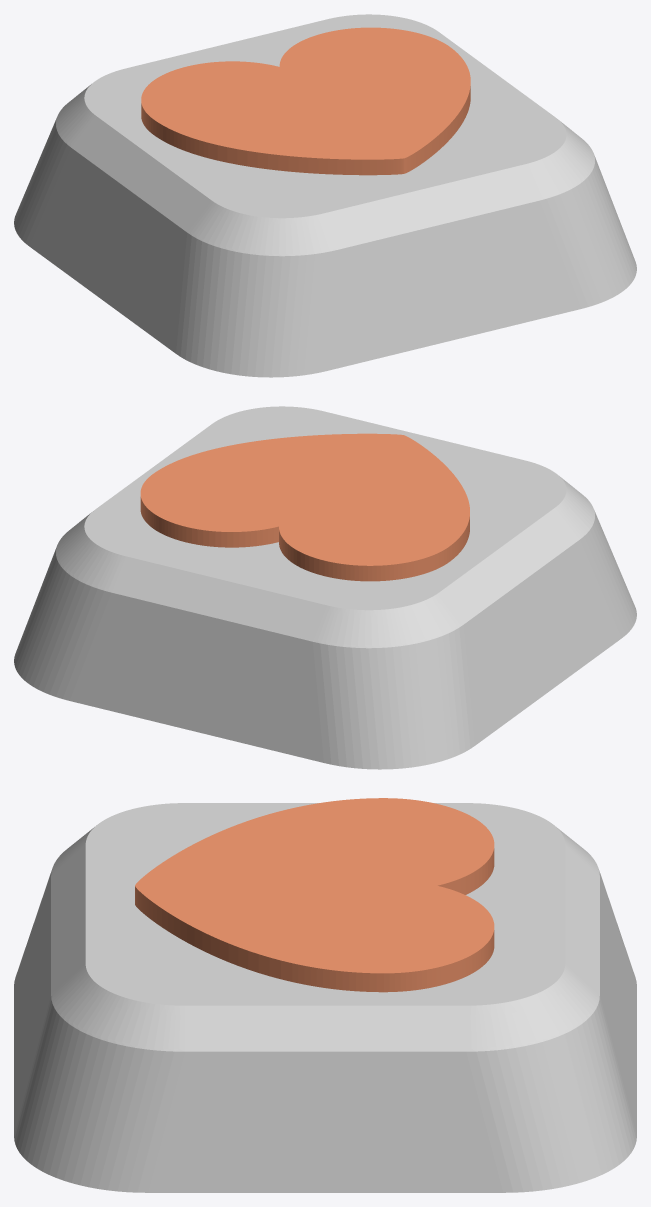
Rendered from cap-heart.glb.
The picture shows the model from 3 angles, top to bottom: view 1: azimuth 30°, elevation 25°; view 2: azimuth 150°, elevation 25°; view 3: azimuth 270°, elevation 25°; orthographic projection. The views are drawn at different scales.
Parts seen in each view (by area): view 1: cap_0, glyph_1; view 2: cap_0, glyph_1; view 3: cap_0, glyph_1.
Boxes of the visible parts, x1,y1,x2,y2 form: cap_0: [14, 14, 636, 377]; glyph_1: [141, 27, 470, 175]; cap_0: [14, 406, 636, 769]; glyph_1: [140, 433, 469, 581]; cap_0: [14, 803, 636, 1192]; glyph_1: [135, 798, 494, 992].
Size of the model in its own units: 18 by 5.6 by 18.
